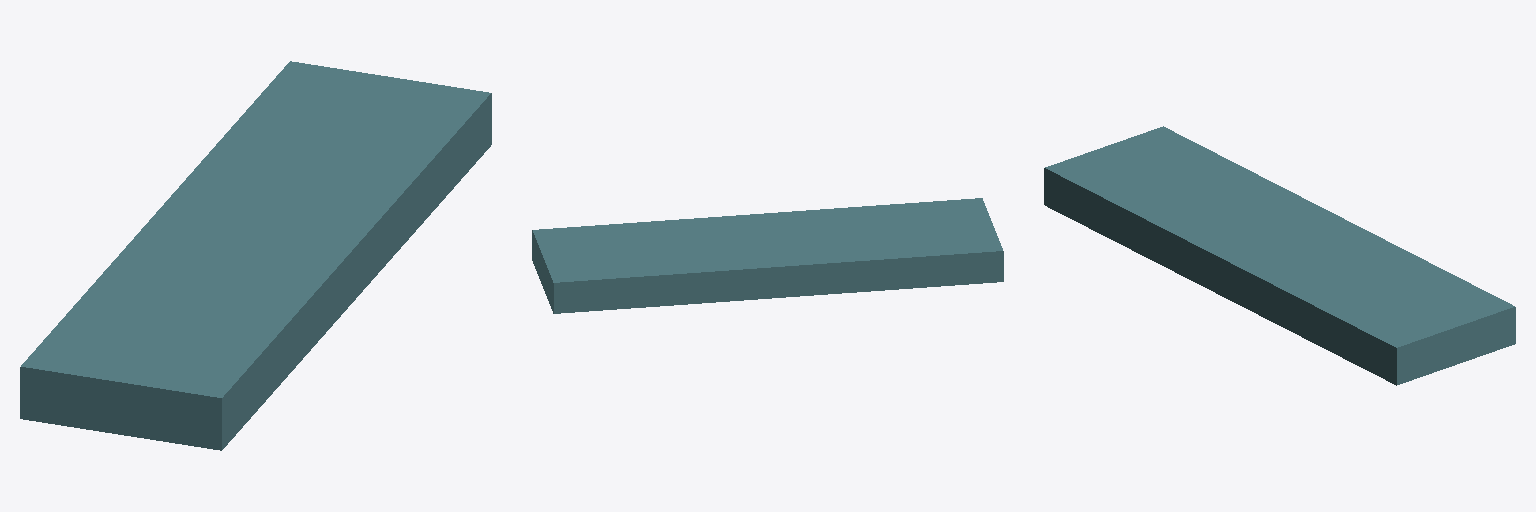
robot.urdf — Interference:
<?xml version="1.0"?>
<robot name="Interference">
  <link name="baseLink">
    <inertial>
      <origin xyz="0.0 0.0 0.0" rpy="0.0 0.0 0.0"/>
      <inertia ixx="0.0" ixy="0.0" ixz="0.0" iyy="0.0" iyz="0.0" izz="0.0"/>
      <mass value="0"/>
    </inertial>
    <visual>
      <origin xyz="0.0 0.0 0.0" rpy="0.0 0.0 0.6902166539151224"/>
      <geometry>
        <box size="0.1330670035549983 0.03709757924879861 0.01"/>
      </geometry>
      <material name="color">
        <color rgba="0.39221969888174524 0.555726605827836 0.5818920623226587 1.0"/>
      </material>
    </visual>
  </link>
</robot>

--- Facts derived from the render (not from the file) ---
The picture shows the robot from 3 angles, left to right: view 1: azimuth 30°, elevation 25°; view 2: azimuth 150°, elevation 25°; view 3: azimuth 270°, elevation 25°; orthographic projection.
Robot: Interference — 1 links, 0 joints (none); root link baseLink; default pose: all joints at 0.
Links seen in each view (by area): view 1: baseLink; view 2: baseLink; view 3: baseLink.
Link boxes in pixels (x1,y1,x2,y2): baseLink: (20, 61, 491, 450); baseLink: (532, 198, 1003, 313); baseLink: (1044, 126, 1515, 385).
Size in the robot's own frame: 0.1262 by 0.1133 by 0.01 metres.
Geometry: primitives only (box / cylinder / sphere), no mesh files.